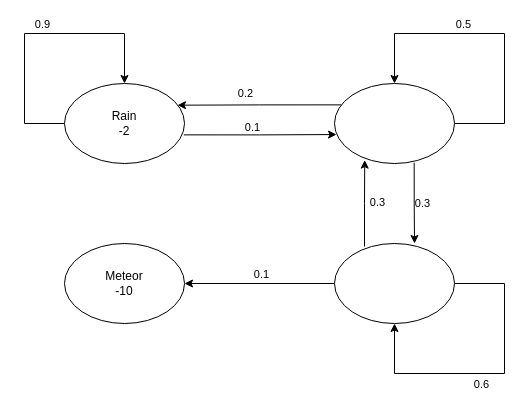
Some shapes in this 530 by 407 pixel diagram are drawn without their labels. The centre of each missing label's shape, as x and y in pixels:
Cloudy 0: (394,123)
Sunny 3: (394,283)
